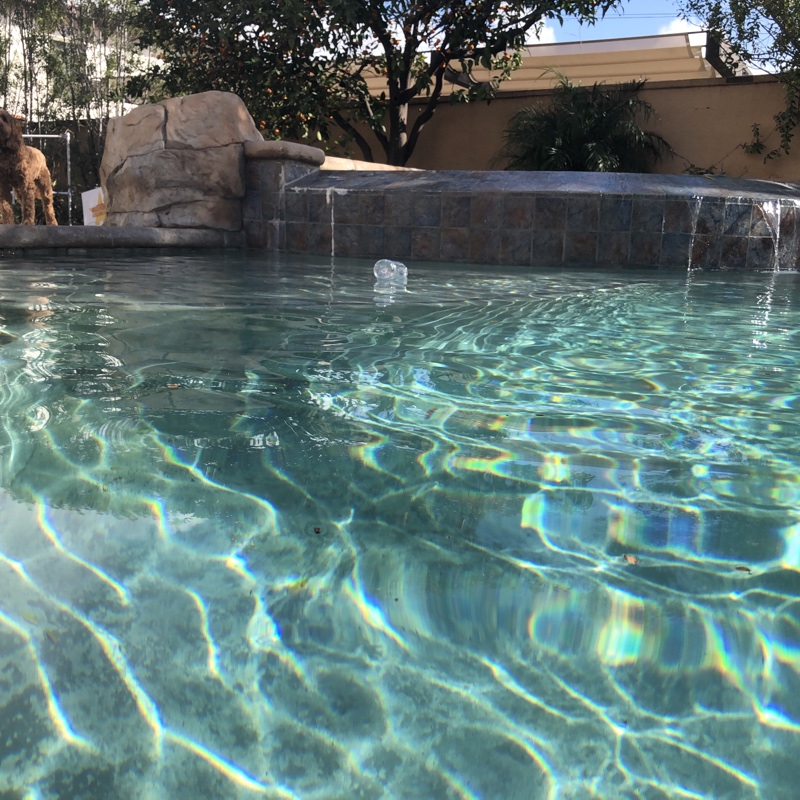Plastic Bottle: (369, 256, 411, 287)
